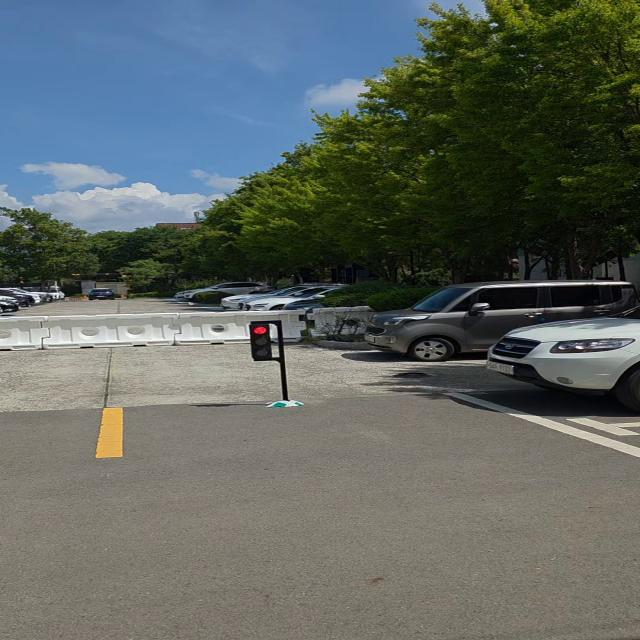red: (249, 322, 275, 361)
